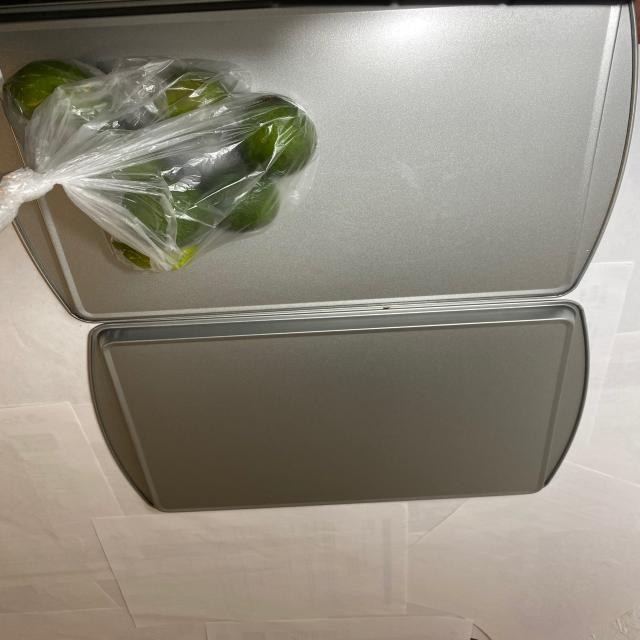lemon: (10, 49, 316, 275)
